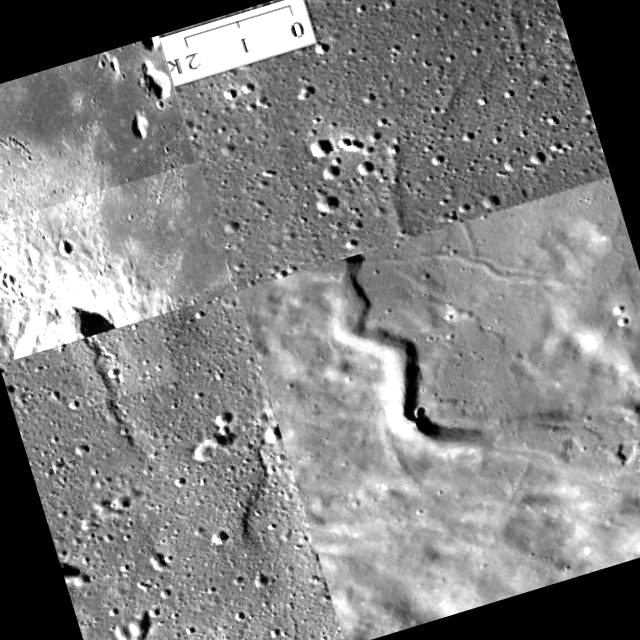crater: (244, 0, 609, 265), (238, 232, 498, 507), (0, 333, 207, 640), (0, 35, 195, 233), (70, 316, 178, 406)
